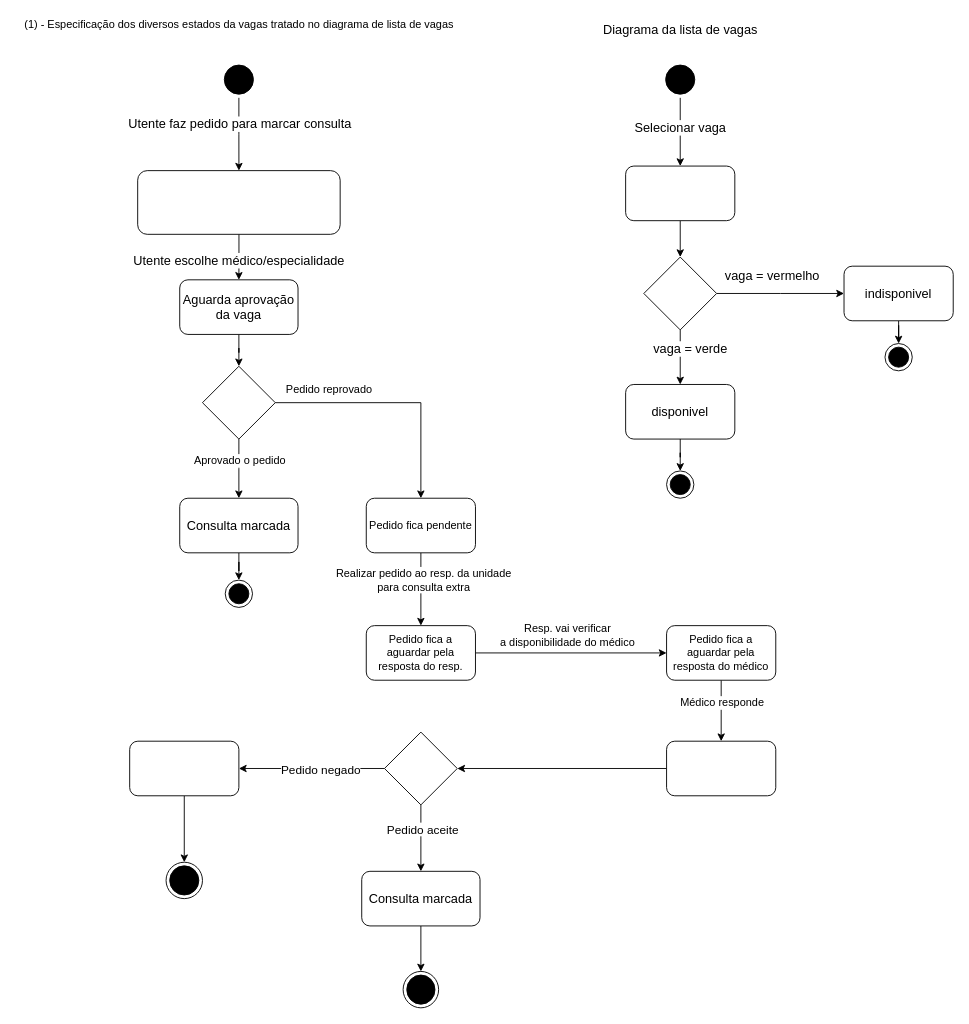
The diagram is 969 pixels wide and 1024 high, and some of its shapes have lost their labels. Here are the shapes that lost their labels. From the top down, the centre of each, then its label:
At pixel 238 202: "Espera escolha do utente /Entry Apresentar lista de vagas (1)".
At pixel 680 193: "em Avaliação".
At pixel 184 768: "Pedido fica em lista espera".
At pixel 721 768: "Aguarda pela autorização do resp.".
